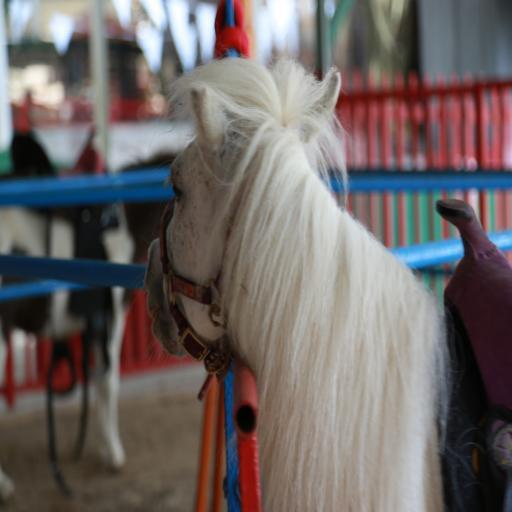horse: (146, 52, 512, 512), (0, 152, 186, 508)
